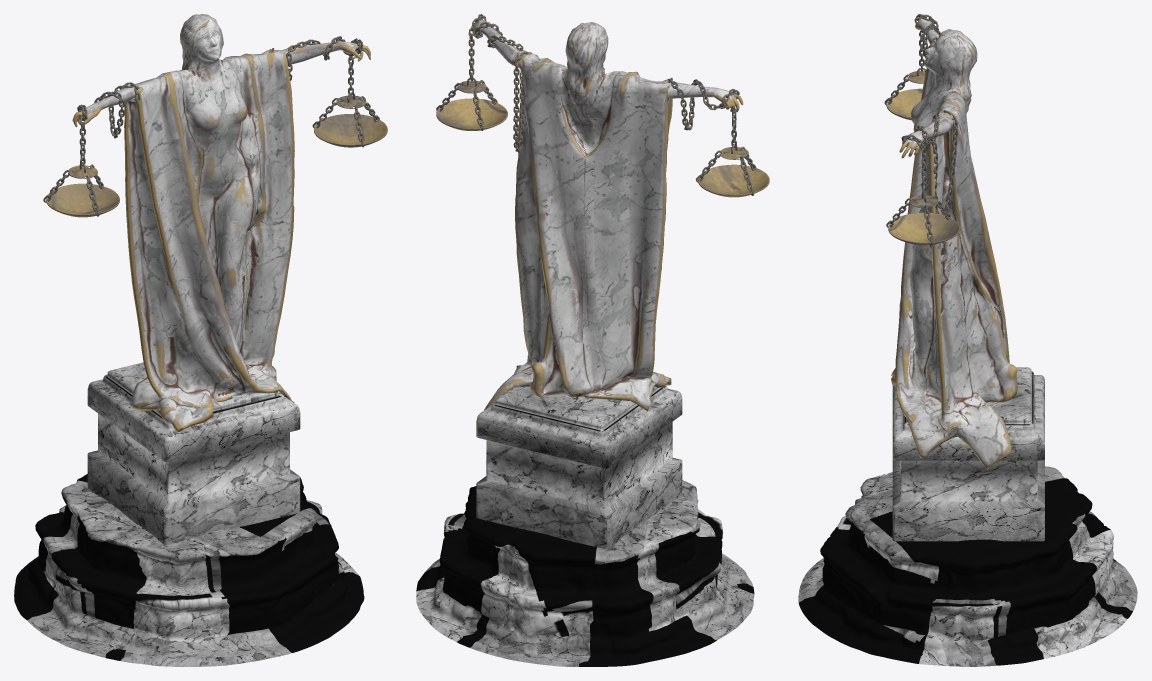
Rendered from themis-draco-transformed.glb.
3 renders of one model, left to right at view 1: azimuth 30°, elevation 25°; view 2: azimuth 150°, elevation 25°; view 3: azimuth 270°, elevation 25°, orthographic. The views are drawn at different scales.
Visible parts, largest first — view 1: Themis Sculpture, Low-res, PEDESTAL, Chains; view 2: Themis Sculpture, Low-res, PEDESTAL, Chains; view 3: Low-res, Themis Sculpture, PEDESTAL, Chains.
Boxes of the visible parts, box(x1,y1,x2,y2) form: Themis Sculpture: box(72, 14, 370, 431); Low-res: box(14, 474, 364, 666); PEDESTAL: box(87, 362, 300, 545); Chains: box(43, 36, 387, 217); Themis Sculpture: box(473, 18, 743, 411); Low-res: box(416, 480, 754, 666); PEDESTAL: box(476, 385, 682, 549); Chains: box(436, 14, 769, 197); Low-res: box(798, 466, 1137, 666); Themis Sculpture: box(891, 16, 1017, 469); PEDESTAL: box(892, 367, 1044, 541); Chains: box(884, 14, 959, 245).
Size of the model in its own units: 2.27 by 3.79 by 2.06.
Materials: 4 (4 with a texture image).
